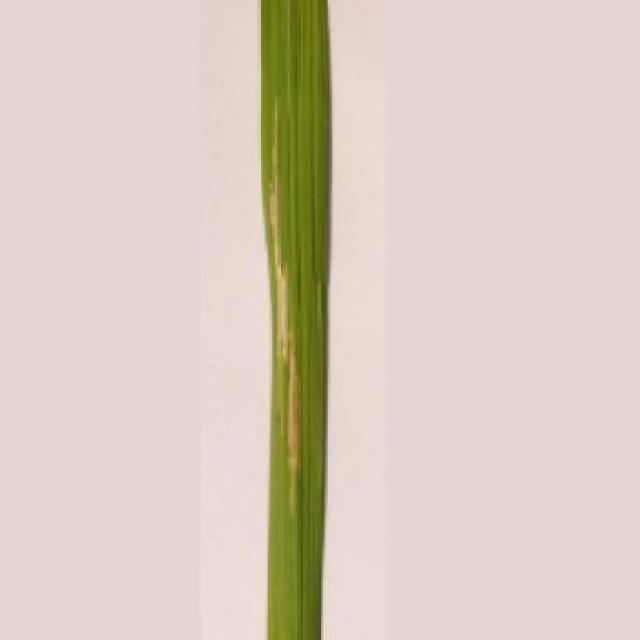Brown_Spot: (256, 0, 336, 640)
